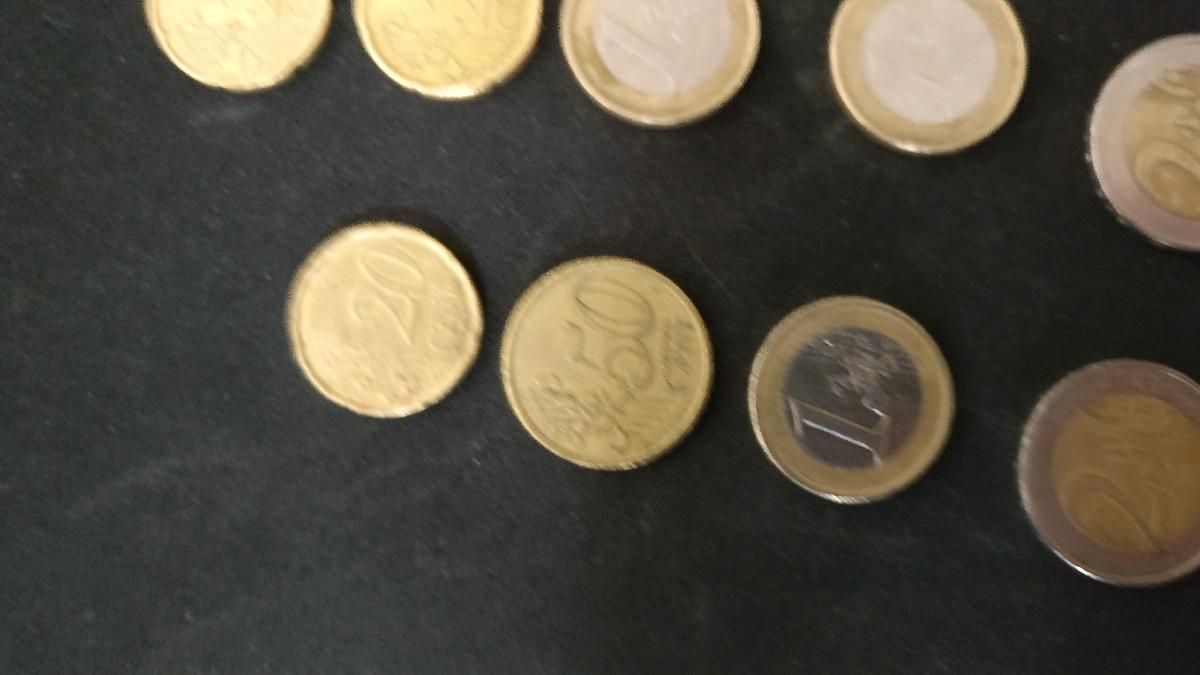Fifty Cent: (500, 257, 707, 466)
One Euro: (752, 304, 959, 512), (823, 1, 1031, 153), (559, 1, 765, 131)
Twenty Cent: (287, 222, 488, 420), (348, 1, 547, 103), (138, 1, 335, 90)
Two Euro: (1014, 354, 1200, 592), (1086, 28, 1200, 253)
